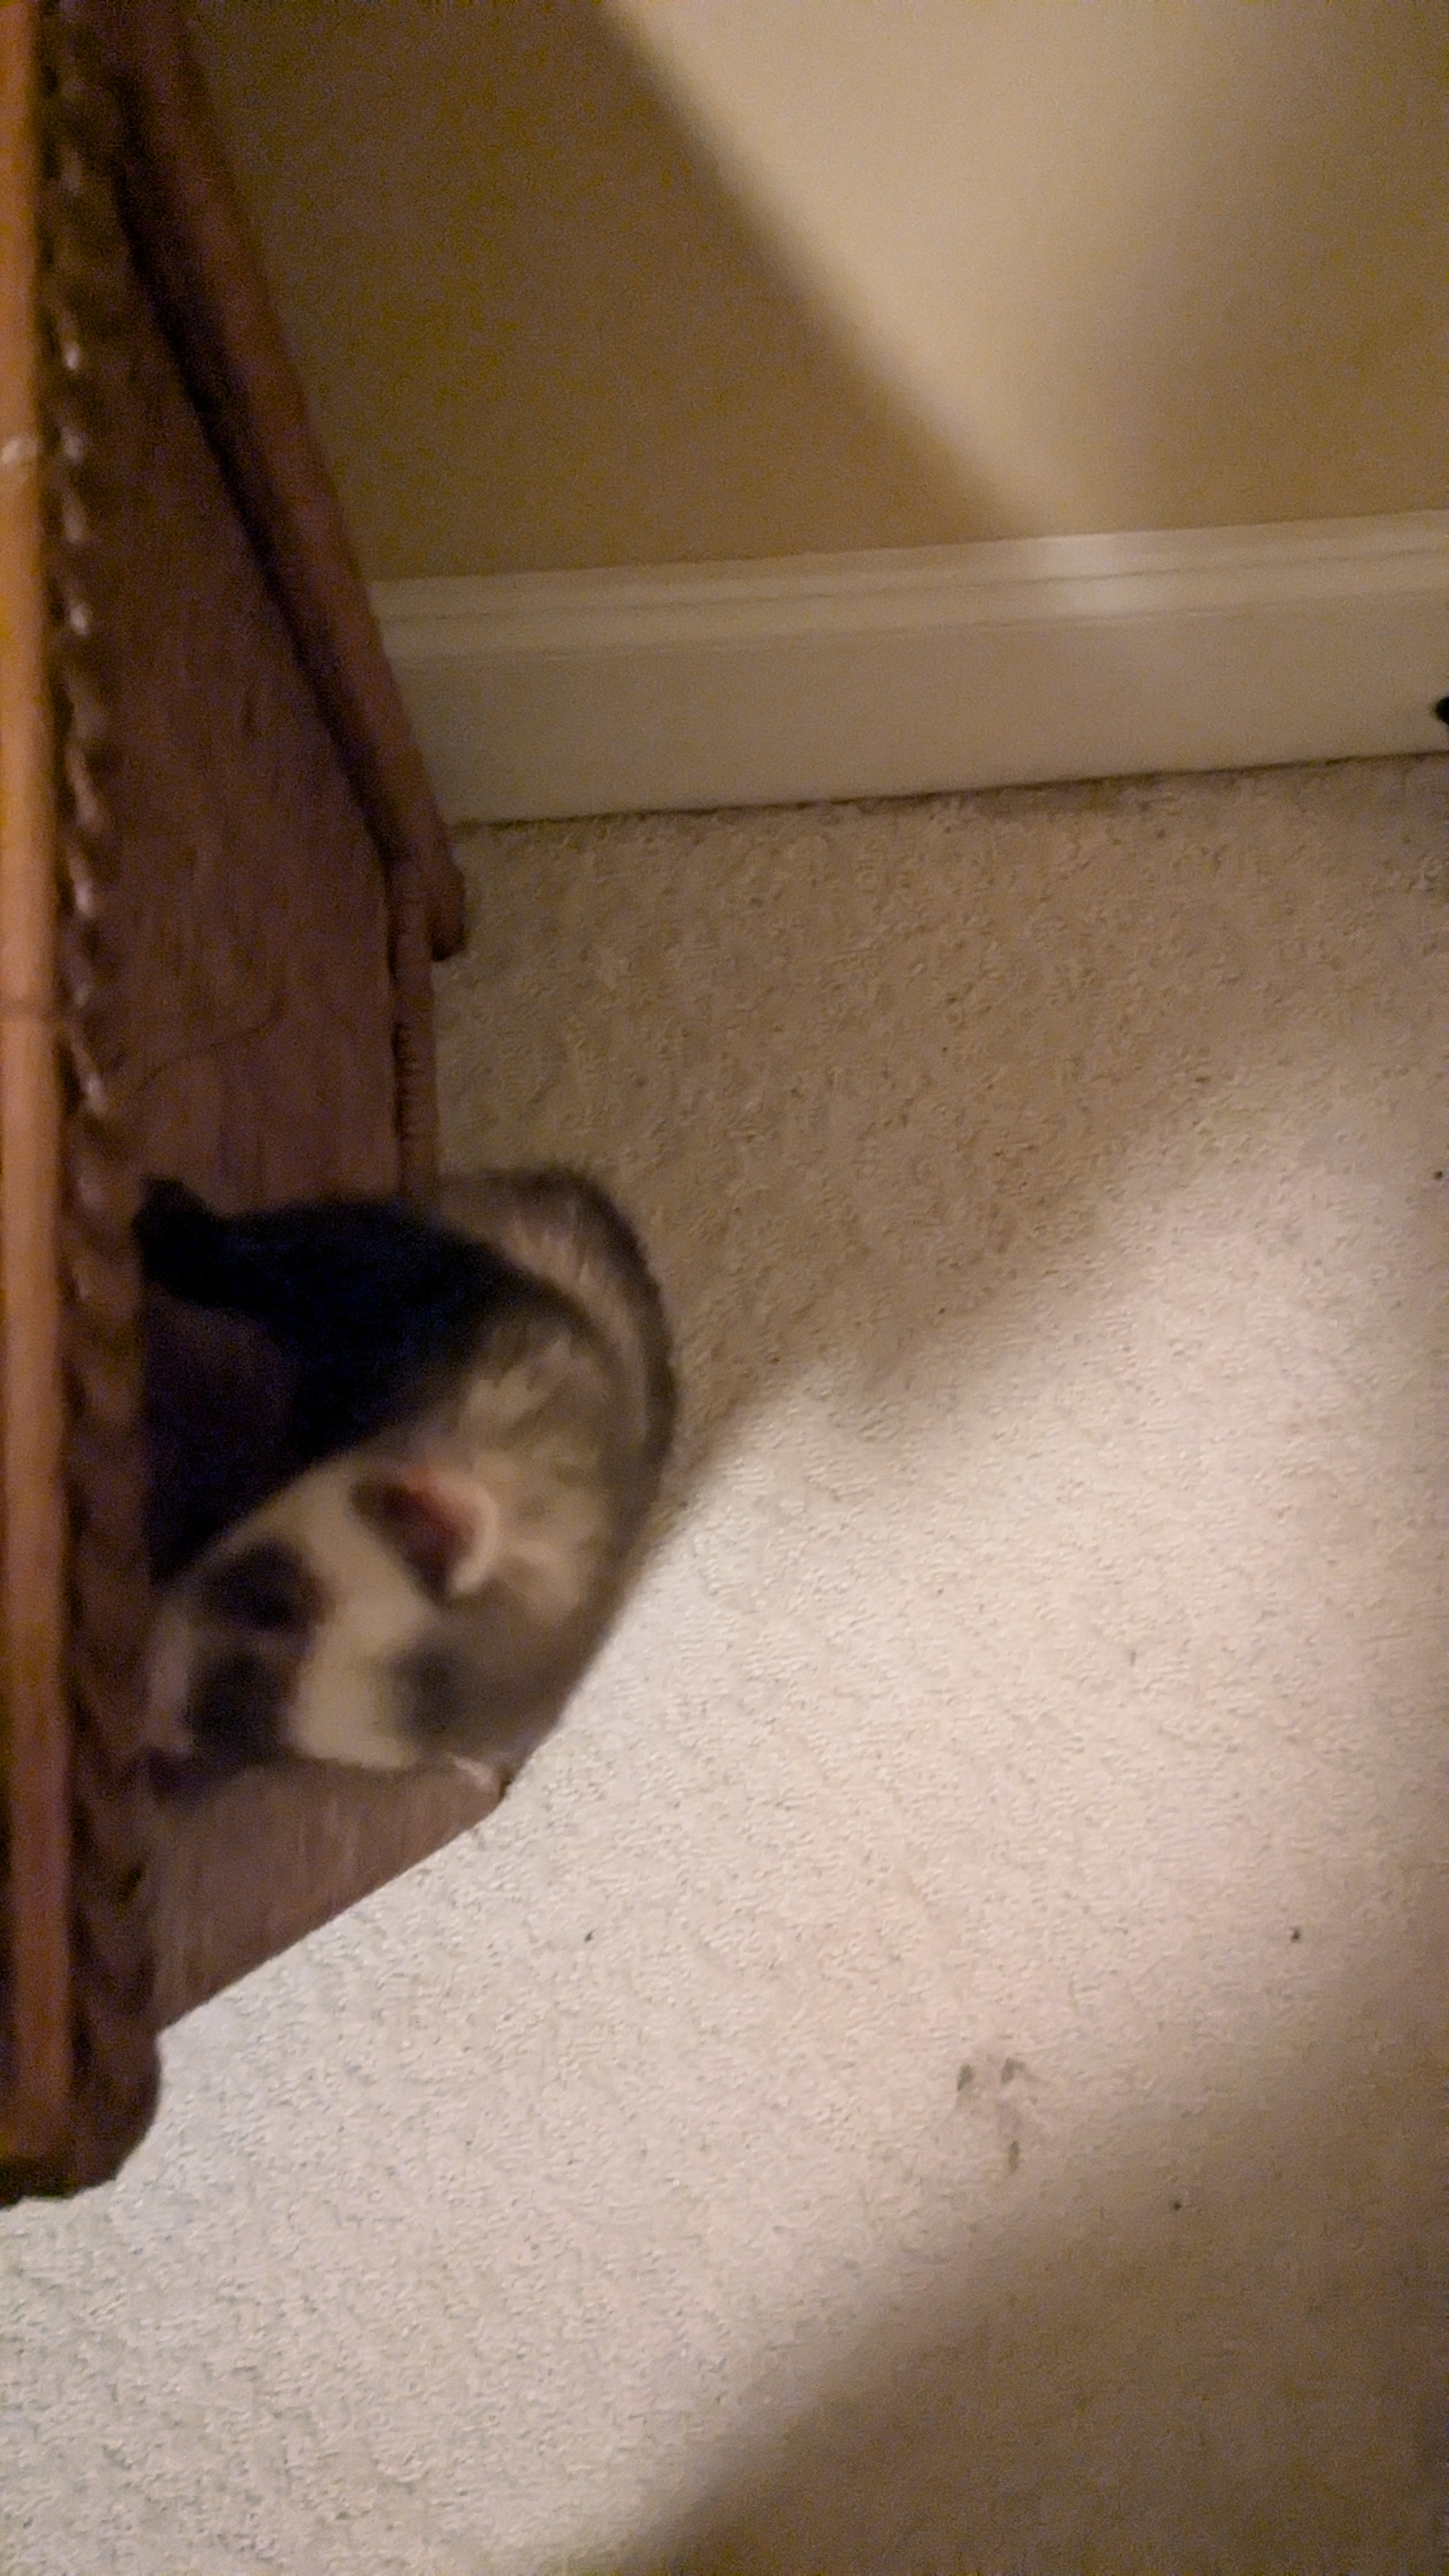Talulah: (136, 1148, 679, 1819)
